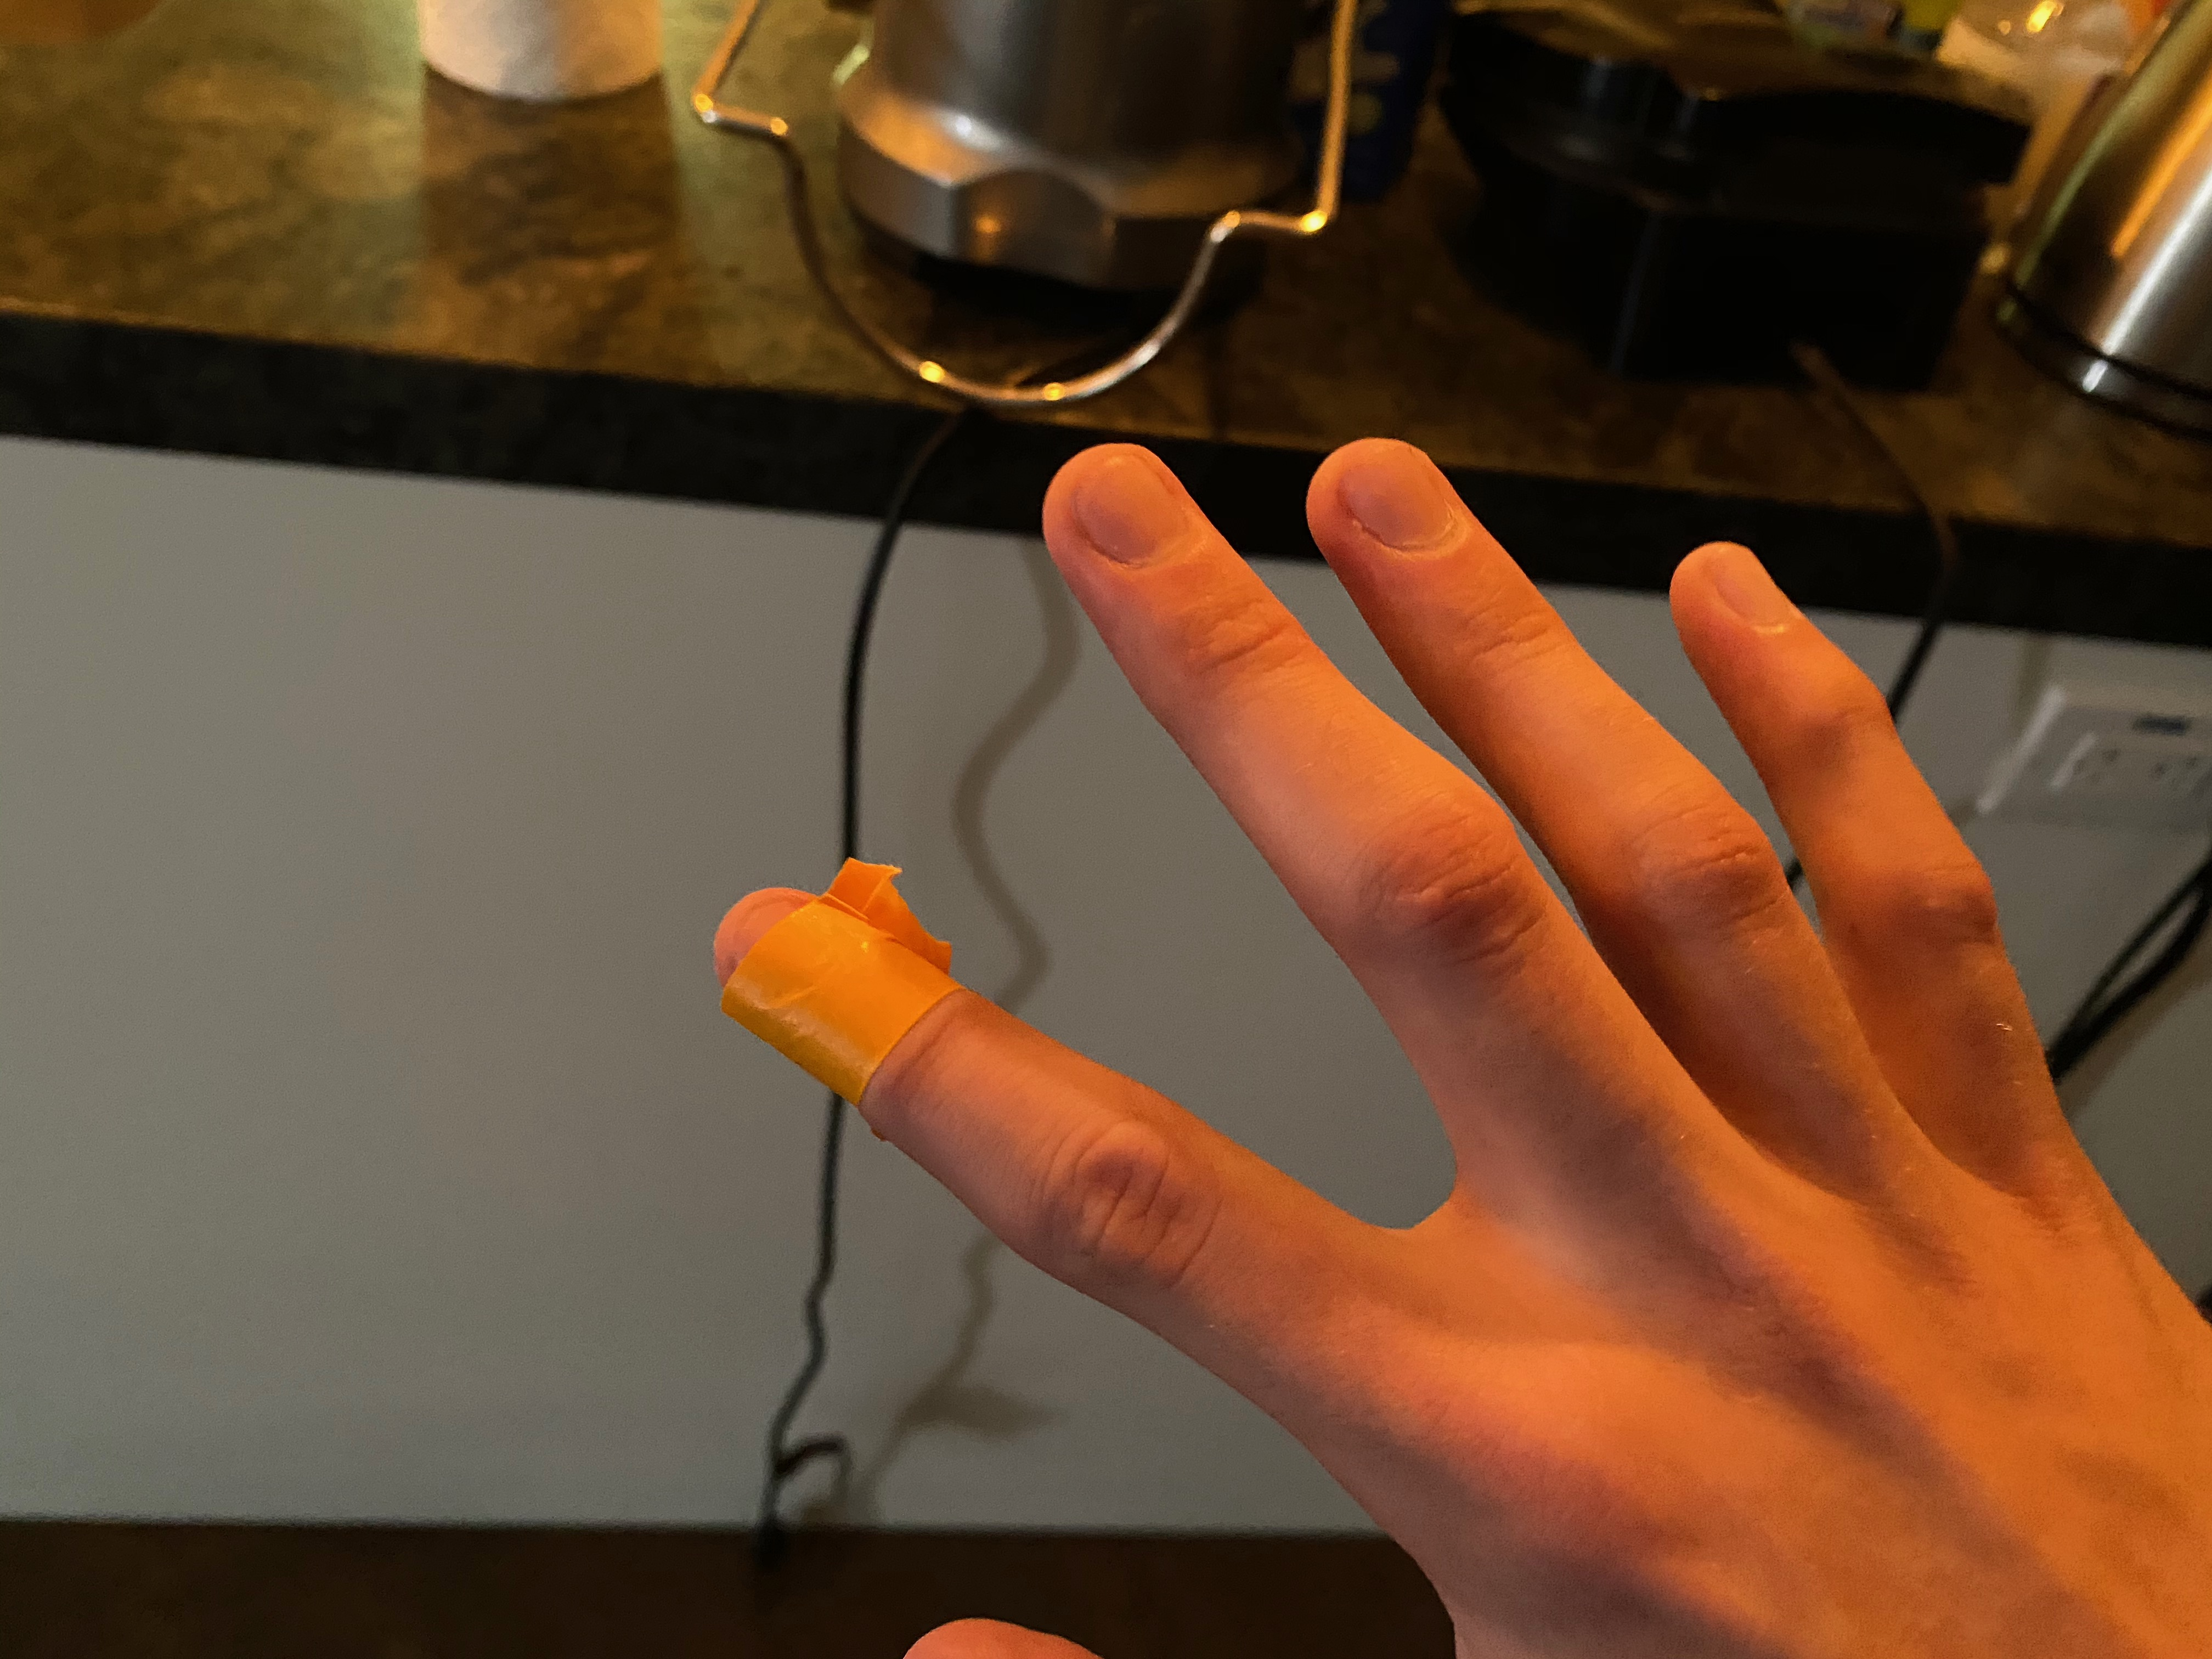fingertip: (681, 857, 1007, 1152)
